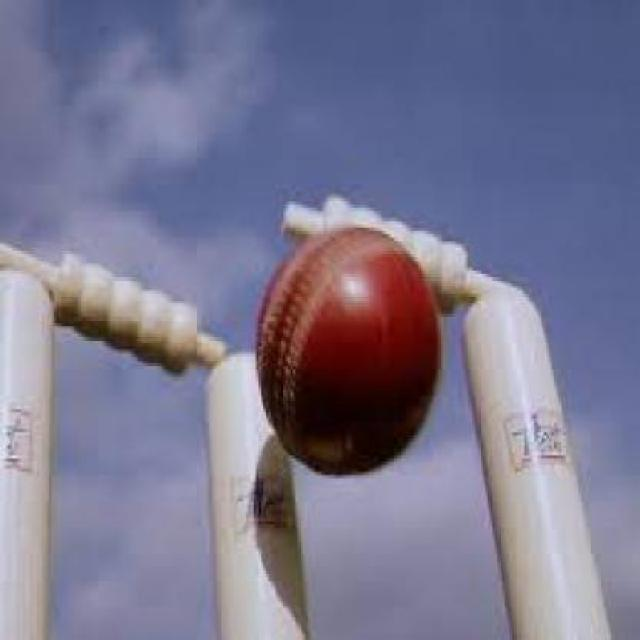ball: (223, 215, 487, 486)
